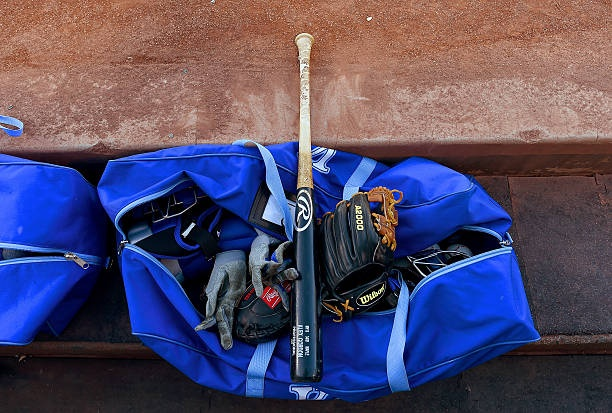bita: (288, 31, 322, 381)
